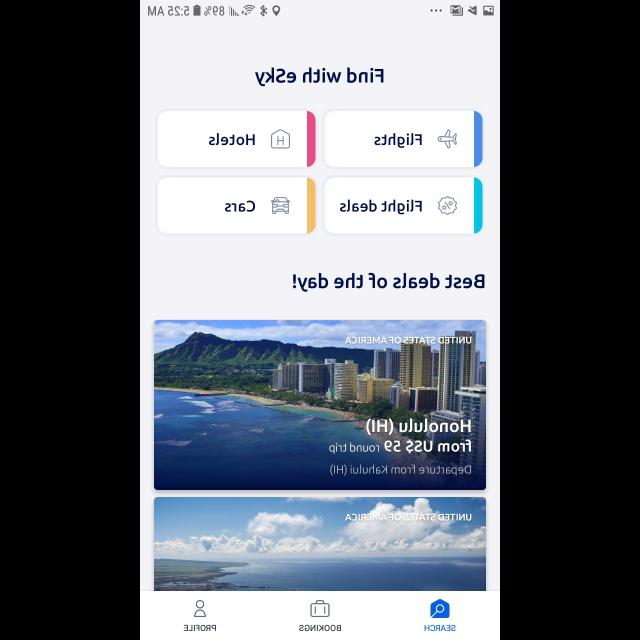icon: (430, 598, 450, 618), (310, 600, 330, 616), (194, 599, 206, 617)
image: (154, 320, 486, 490), (154, 497, 486, 591), (437, 197, 457, 216), (270, 130, 290, 148), (437, 130, 457, 148), (270, 198, 290, 215)
text: (329, 418, 471, 454), (292, 272, 484, 292), (254, 67, 384, 87), (330, 464, 470, 476), (345, 336, 473, 344), (344, 513, 472, 521), (299, 624, 341, 632), (424, 624, 456, 632), (184, 624, 216, 632)
textbutton: (324, 111, 482, 167), (157, 112, 315, 168), (157, 178, 315, 234), (324, 178, 482, 234)
uppertaskbar: (140, 1, 500, 22)
